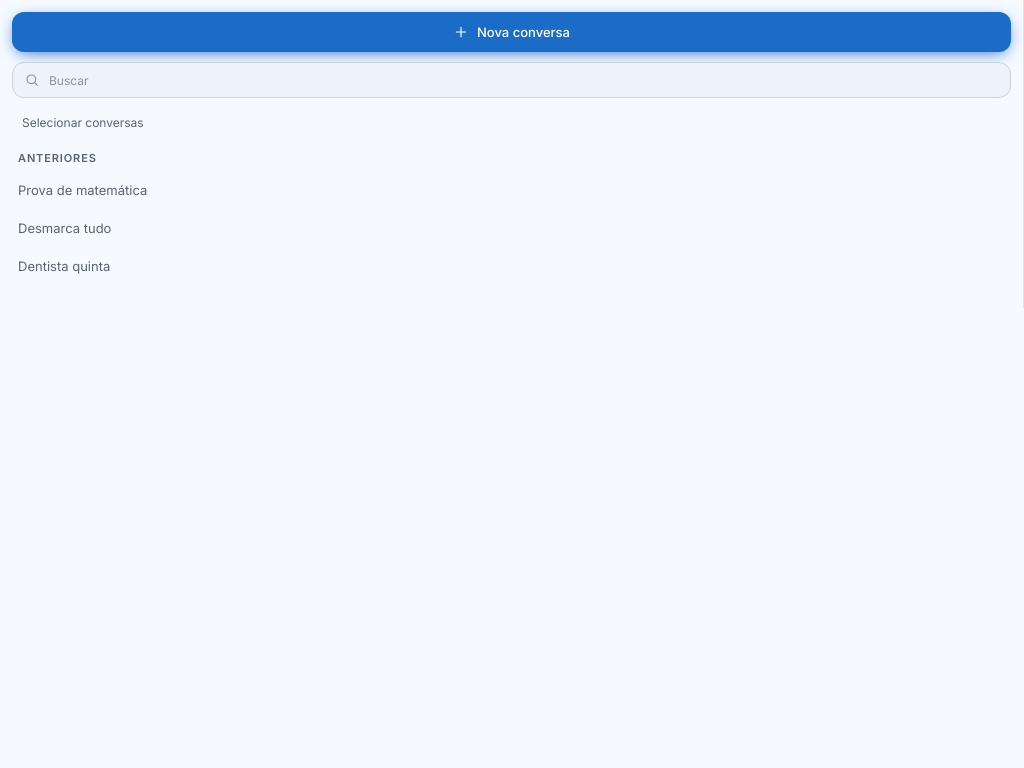
Test: confirmação antes de apagar › diz 'todas' quando é tudo, porque a consequência é outra
Click the button "Selecionar conversas" at (83, 122), box 12,108 -> 1011,138
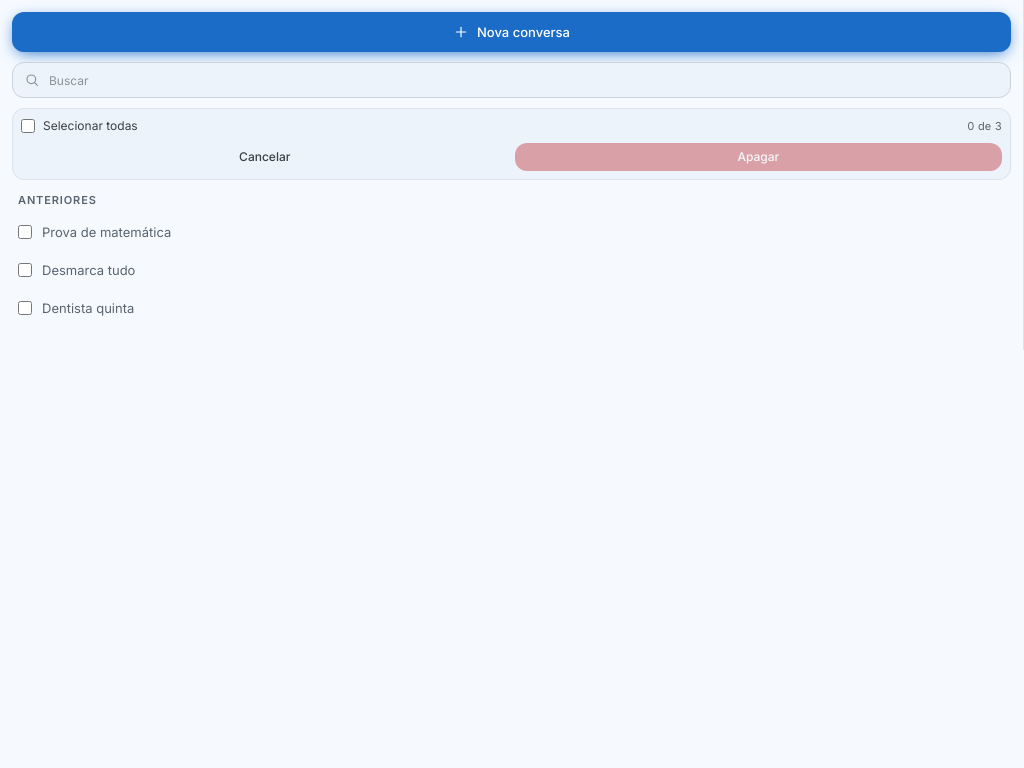
Click the checkbox labelled "Selecionar todas" at (28, 126), box 21,119 -> 35,133
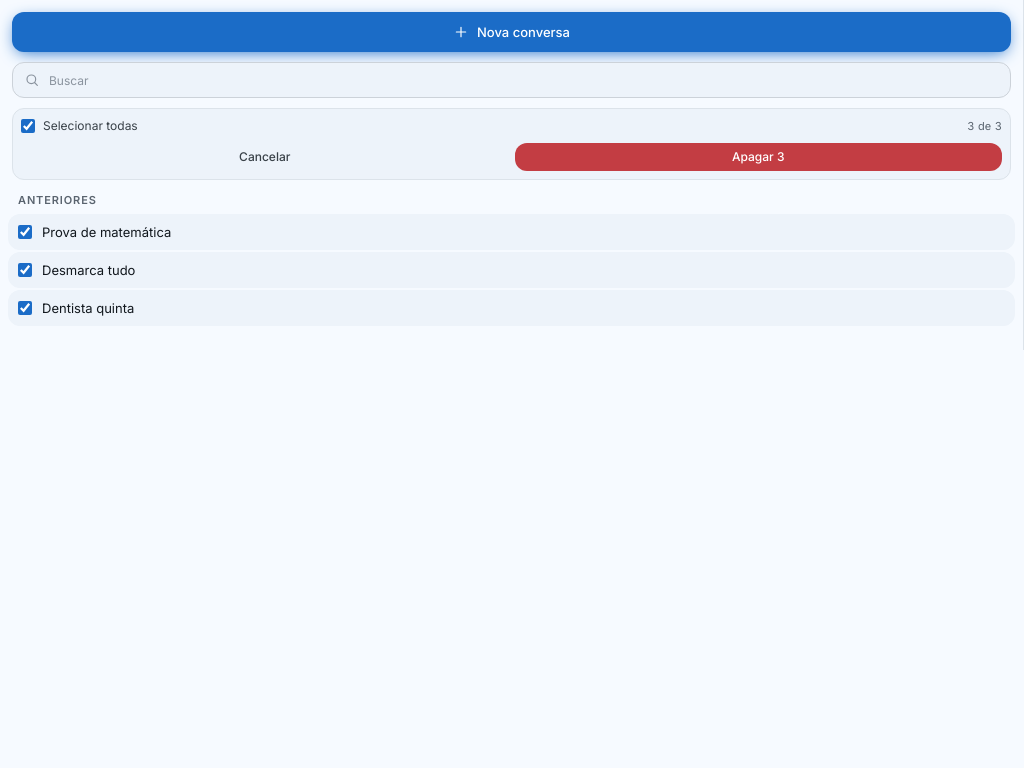
Click the button "Apagar 3" at (758, 157), box 514,143 -> 1002,171
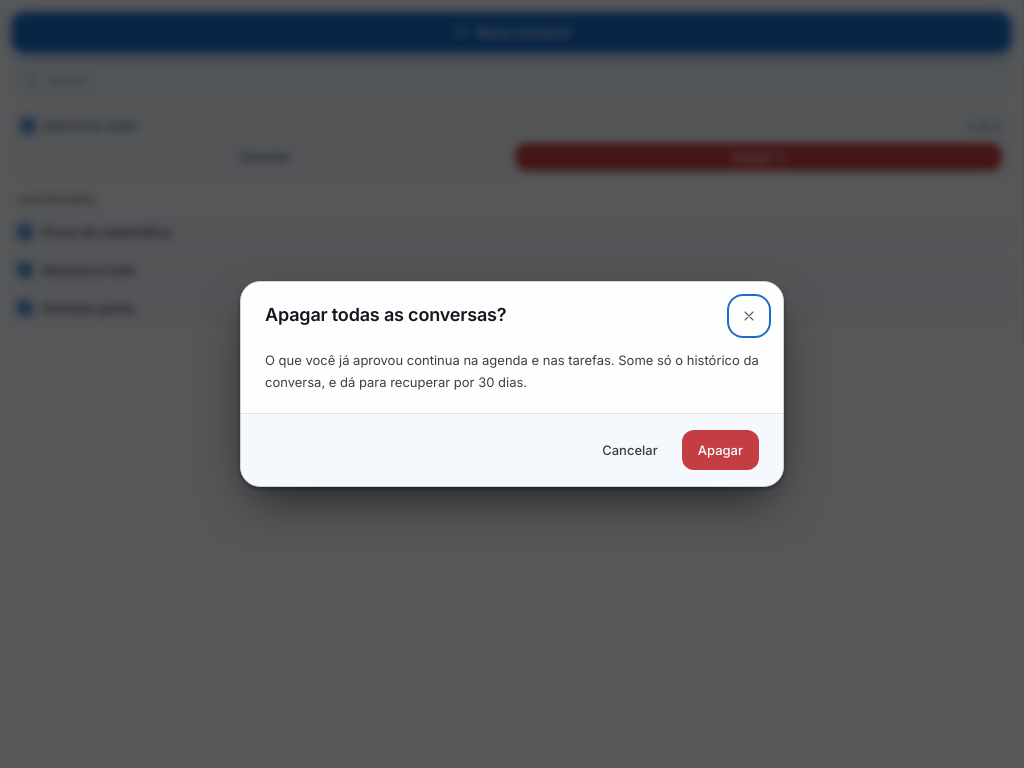
expect the heading "Apagar todas as conversas?" is shown: met, box 265,302 -> 506,328
